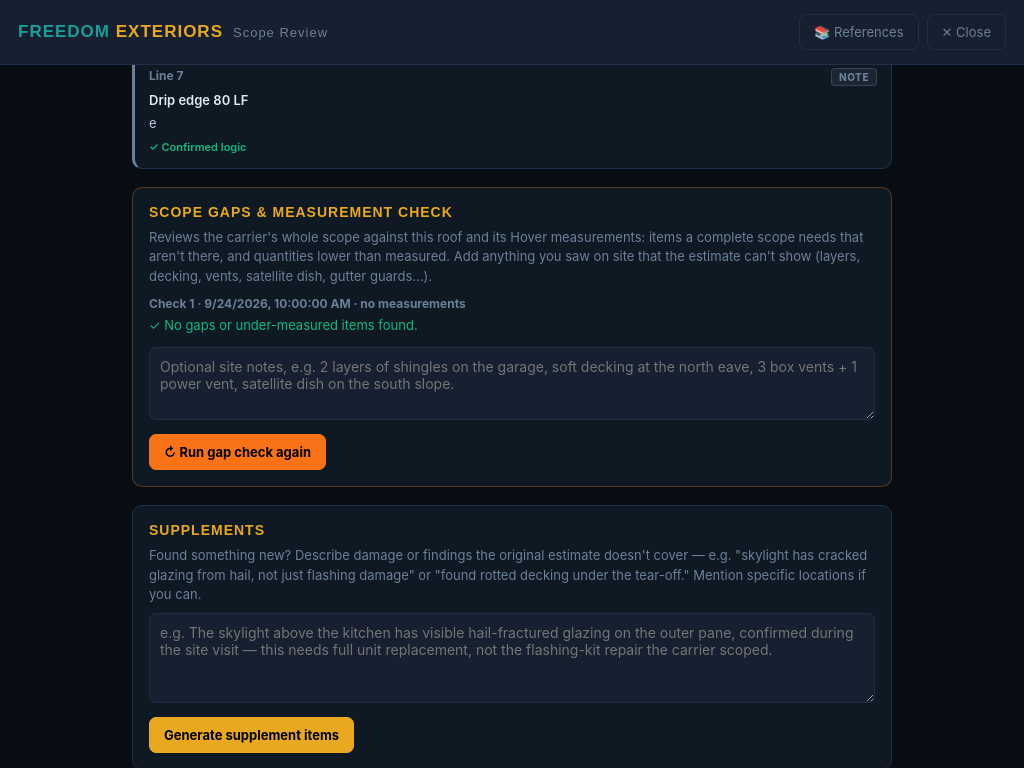
Test: gap check sends items + site notes, saves findings, keeps earlier checks
This screenshot has width=1024, height=768.
(page scrolled)
Replace the text in the text box with placeholder "2 layers of shingles" with "2 layers on garage": (512, 384) [149,347,875,420]
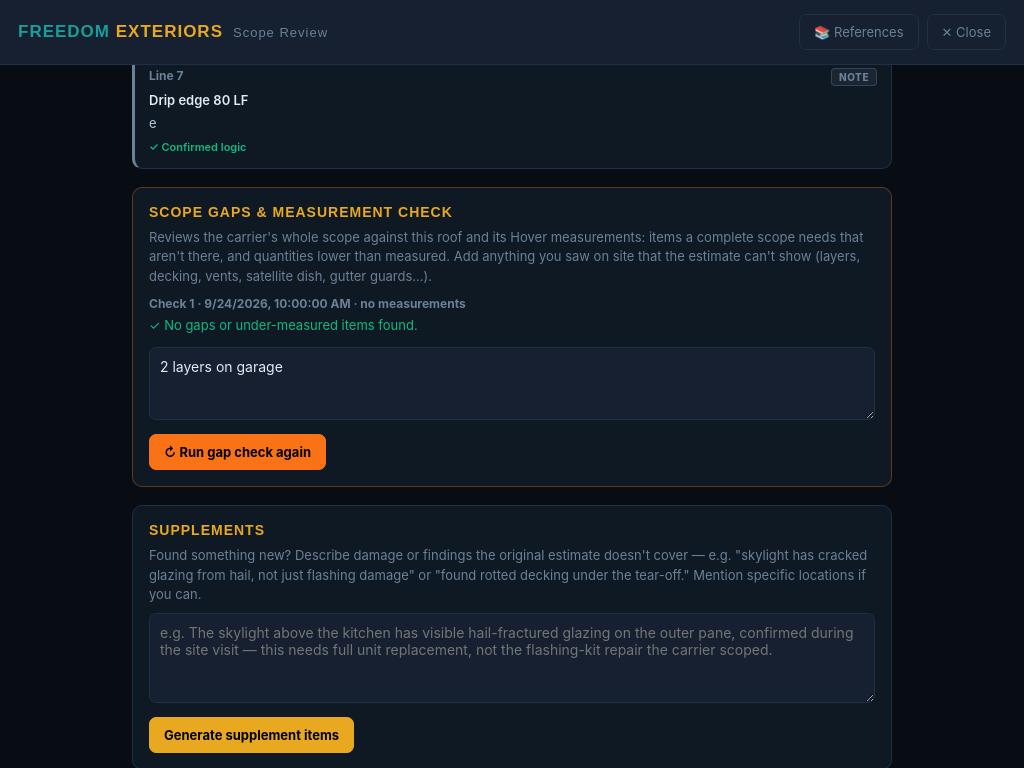
Click the button "↻ Run gap check again": click(238, 452) [149,434,326,470]
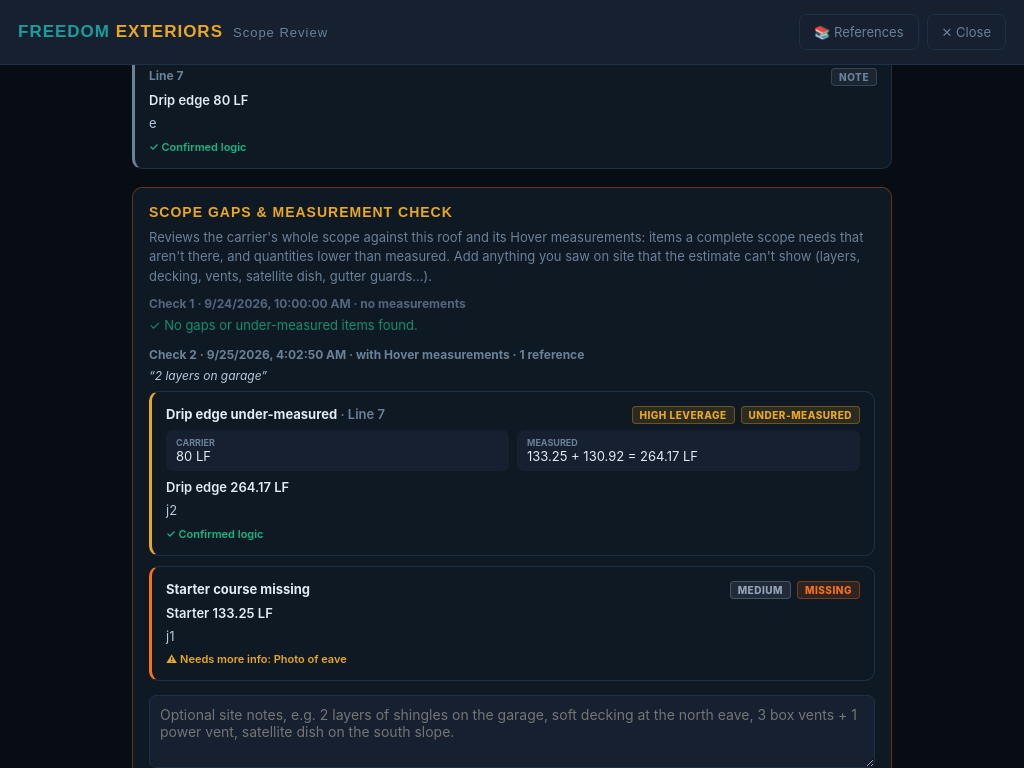
Expected: the text "Drip edge under-measured" is shown, [166,406,337,422]
Expected: the text "133.25 + 130.92 = 264.17 LF" is shown, [527,448,698,464]
Expected: the text "⚠ Needs more info: Photo of eave" is shown, [166,652,347,666]
